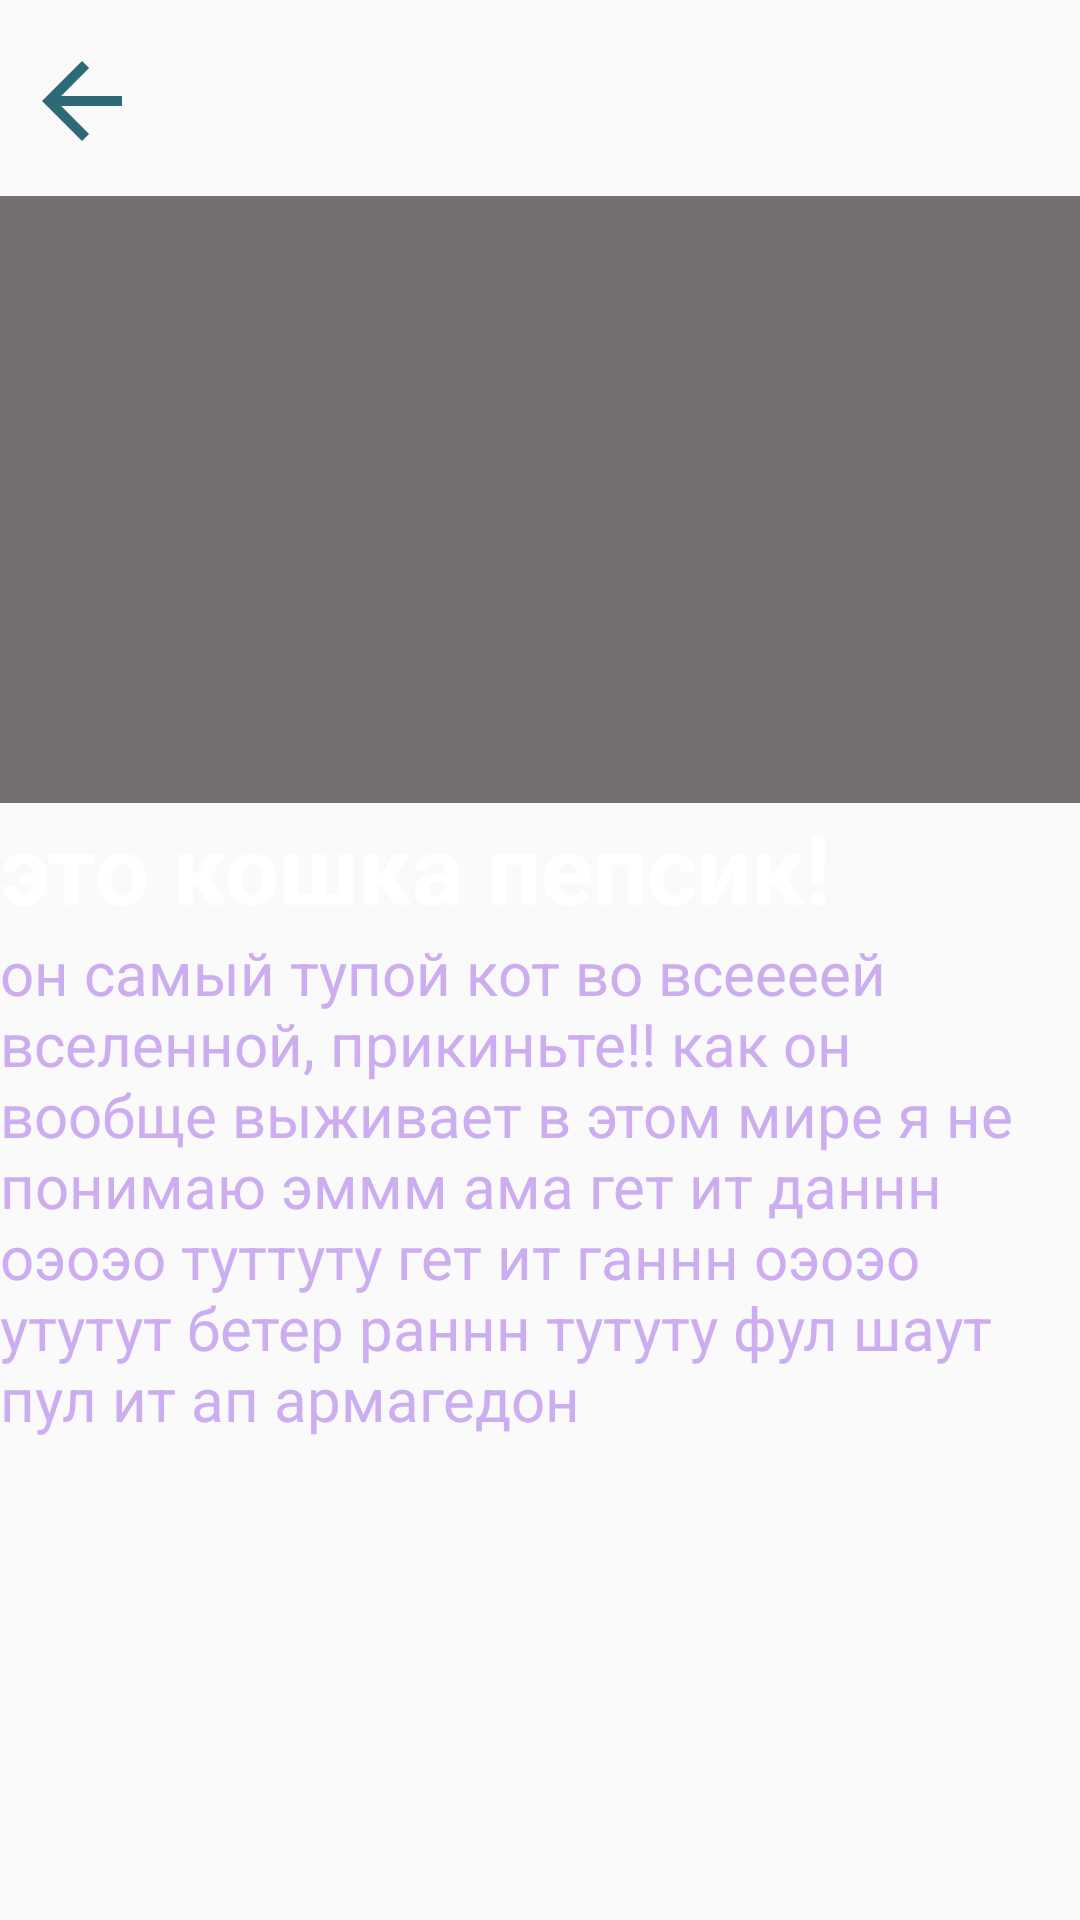

Point at icon controls on the screen. Image size 1080px x 1920px, points as (x=x, y=y).
arrow back: (x=82, y=101)
